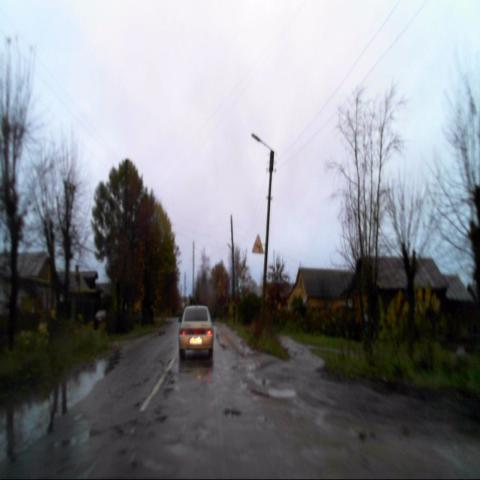1_12_2: (252, 234, 264, 253)
